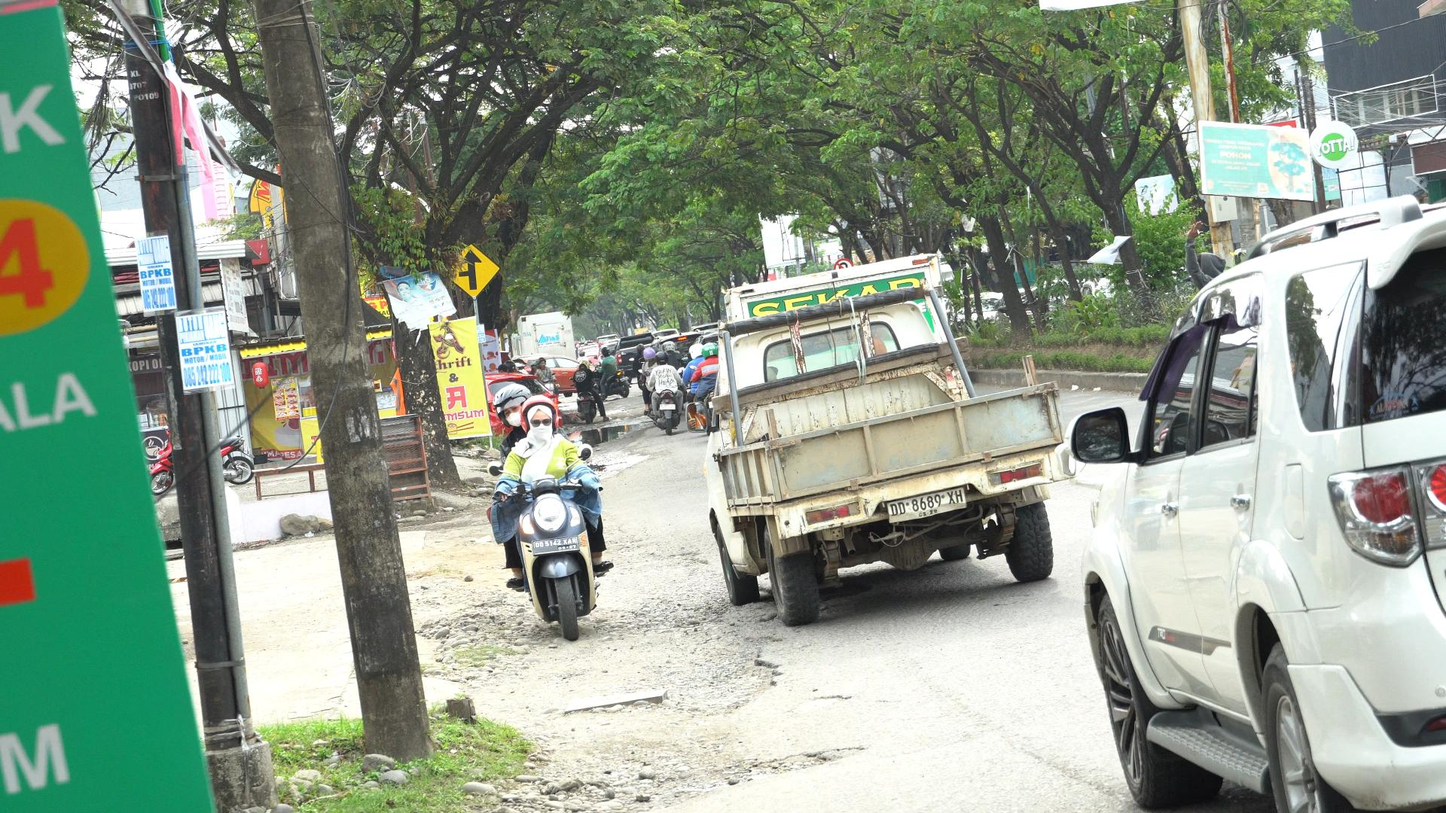number-plate: (531, 533, 580, 552)
